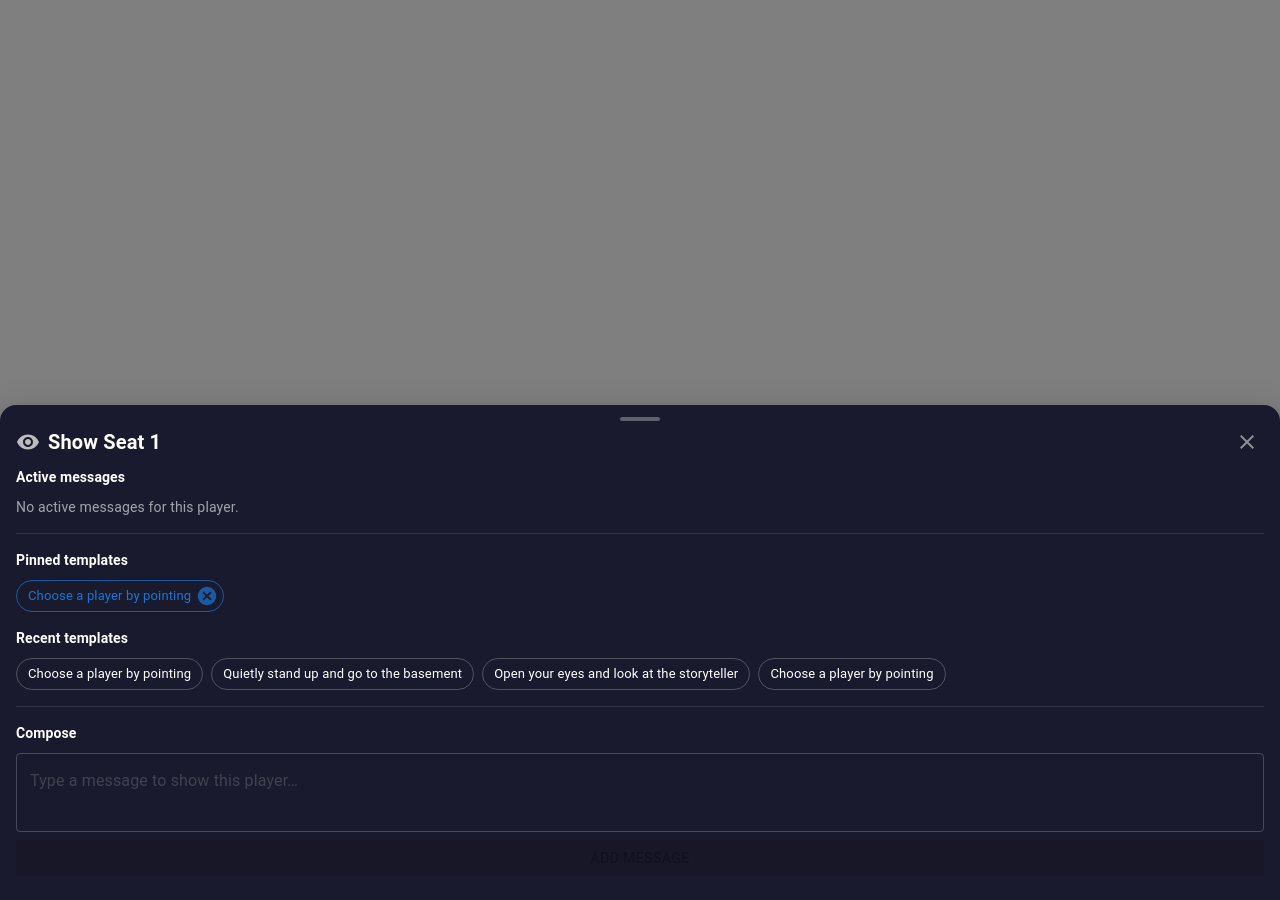
Test: PlayerShowDrawer › adds and shows a recent template when tapped
Click the button "Choose a player by pointing" below "Pinned templates" at coordinates (120, 596), box [16, 580, 224, 612]
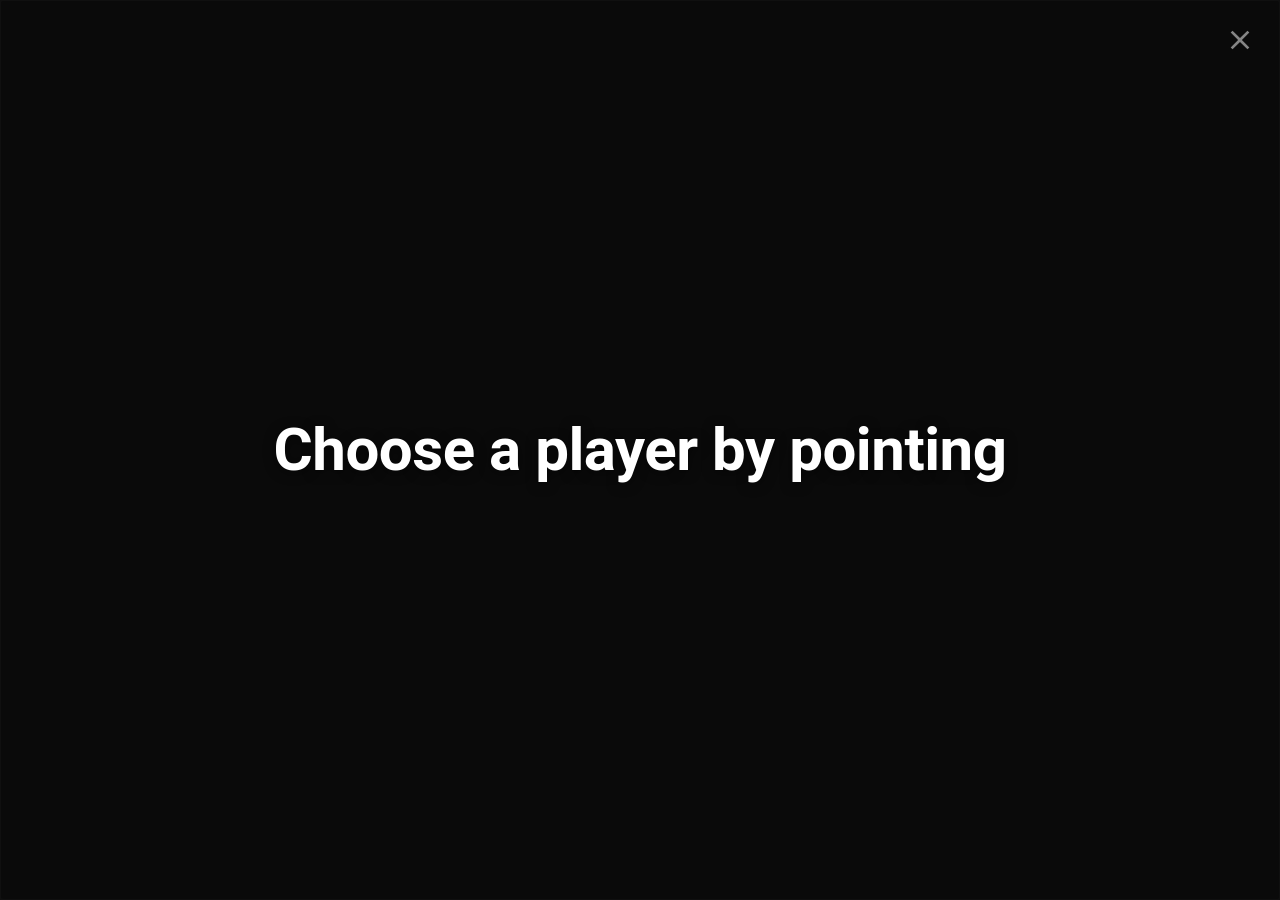
Check: the element with test id "player-show-screen" is shown
